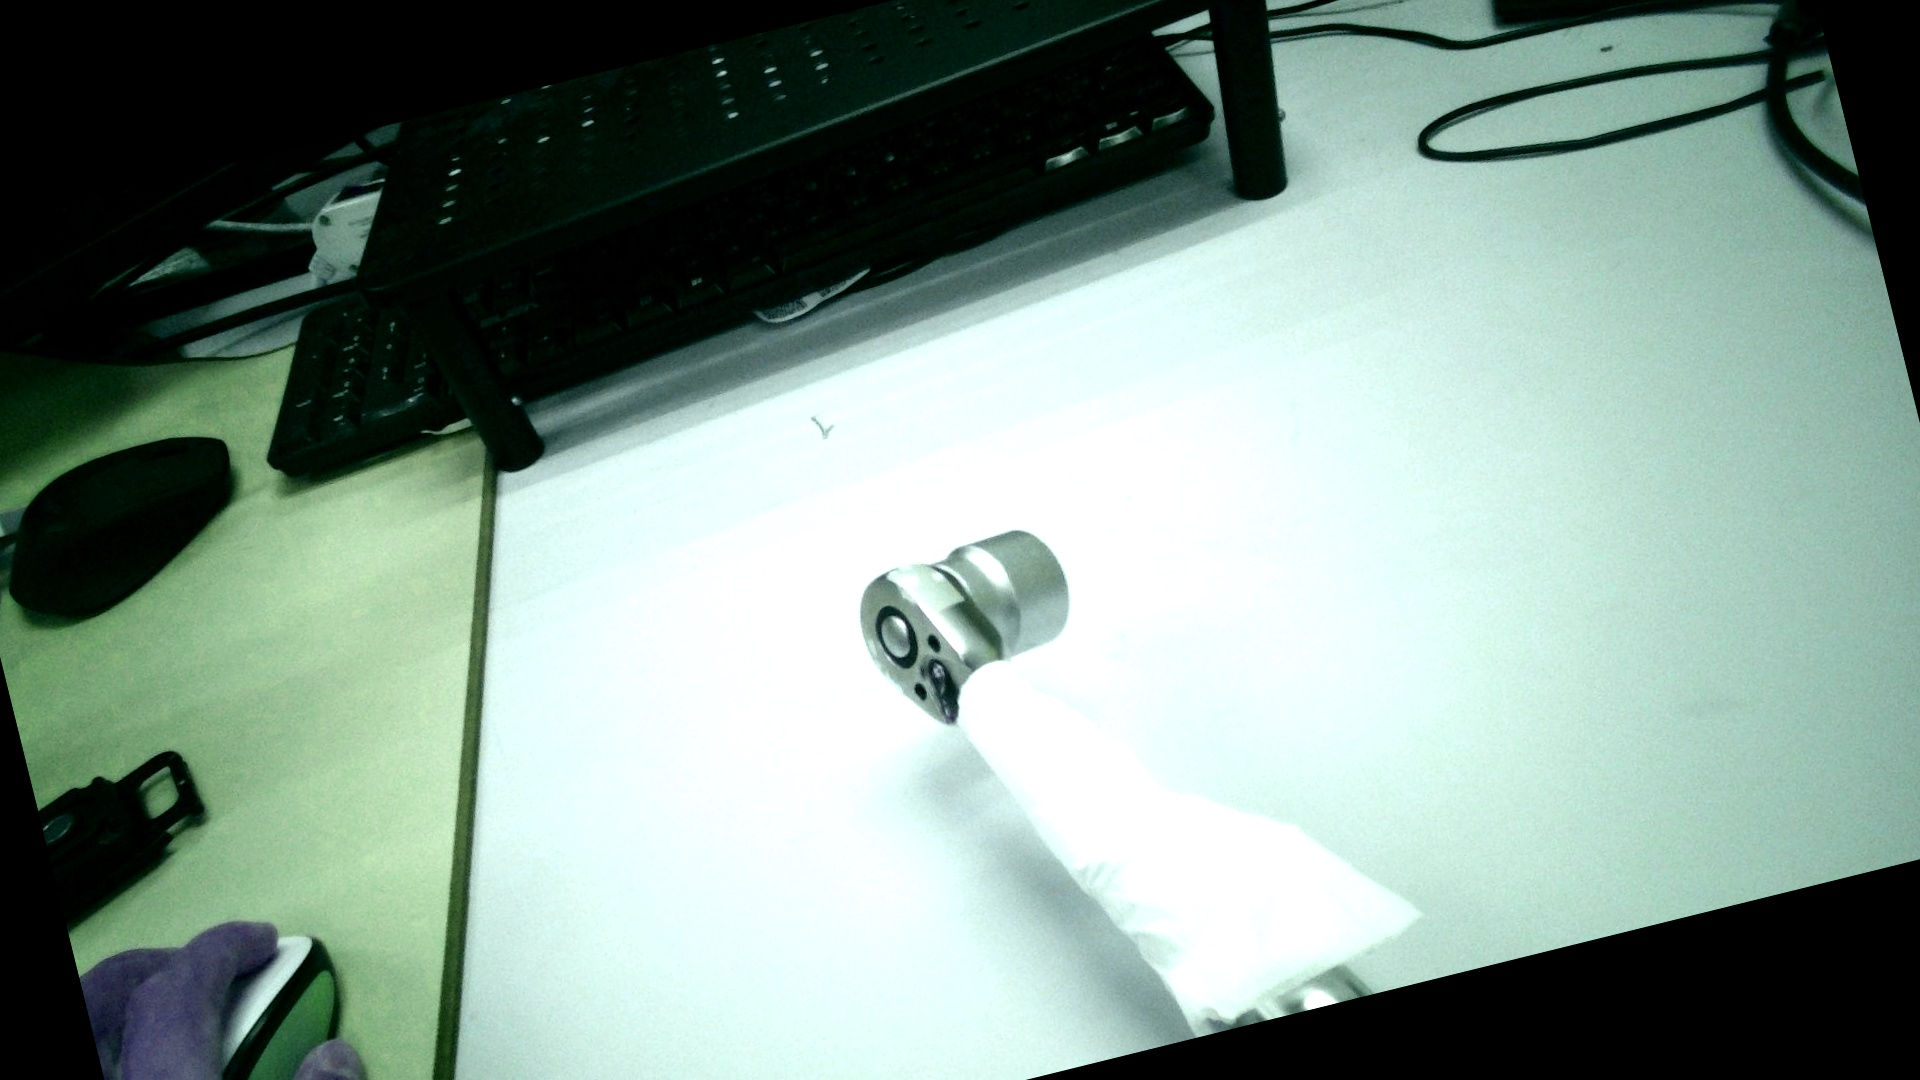wrench: (872, 595, 923, 669)
